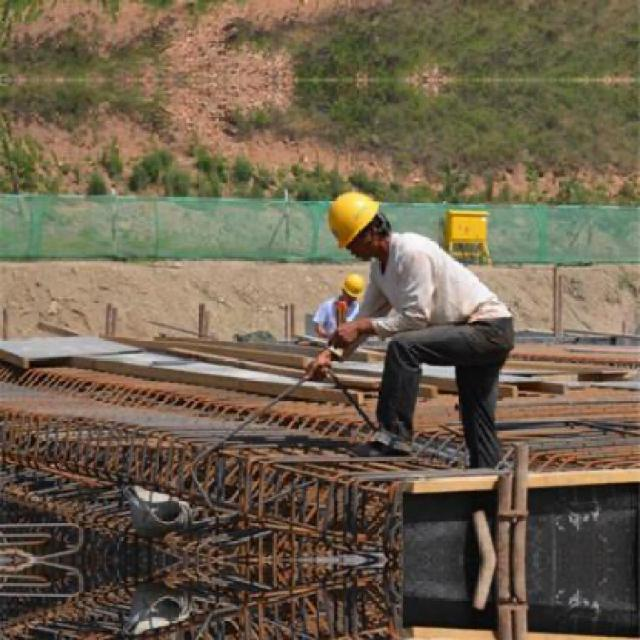helmet: (322, 183, 402, 263), (340, 269, 371, 306)
